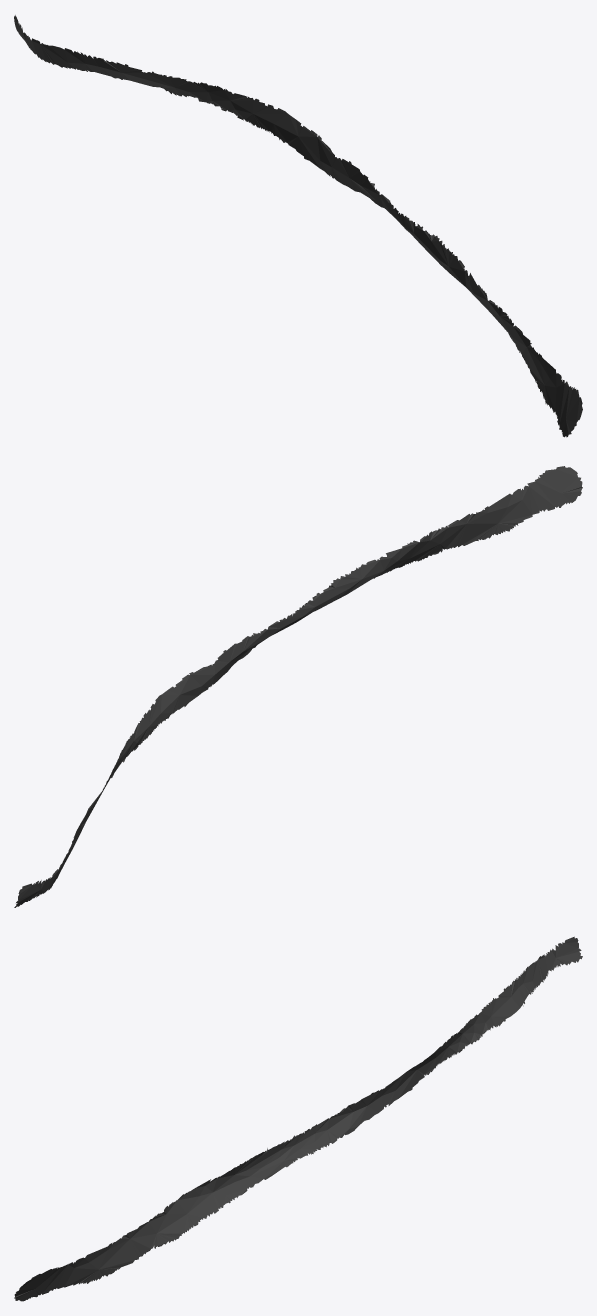
The model's file is vein_med_palmar.glb.
3 views of the same model, one above another, from view 1: azimuth 30°, elevation 25°; view 2: azimuth 150°, elevation 25°; view 3: azimuth 330°, elevation 25° (orthographic). The views are drawn at different scales.
Visible parts, largest first — view 1: vein_med_palmar; view 2: vein_med_palmar; view 3: vein_med_palmar.
Boxes of the visible parts, x1=… form: vein_med_palmar: x1=14, y1=15, x2=582, y2=437; vein_med_palmar: x1=14, y1=466, x2=582, y2=907; vein_med_palmar: x1=14, y1=936, x2=582, y2=1301.
Bounding box in the file's own units: 0.0312 × 0.0243 × 0.341.
1 material, 1 textured.
